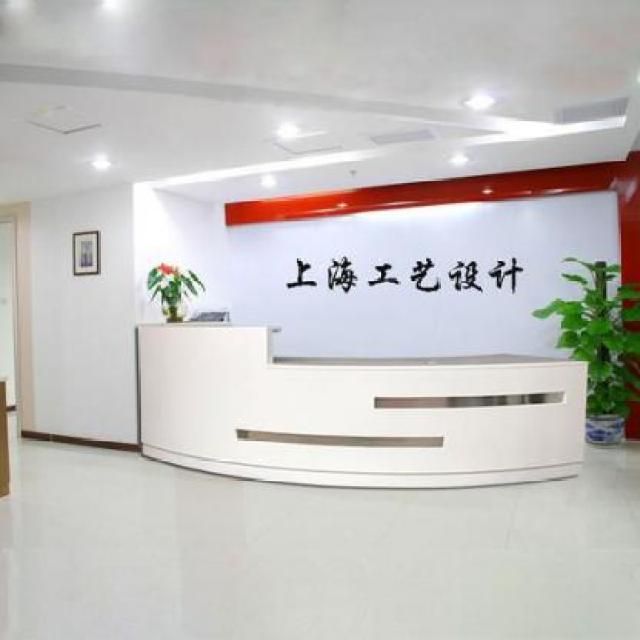frontdesk: (129, 309, 598, 495)
